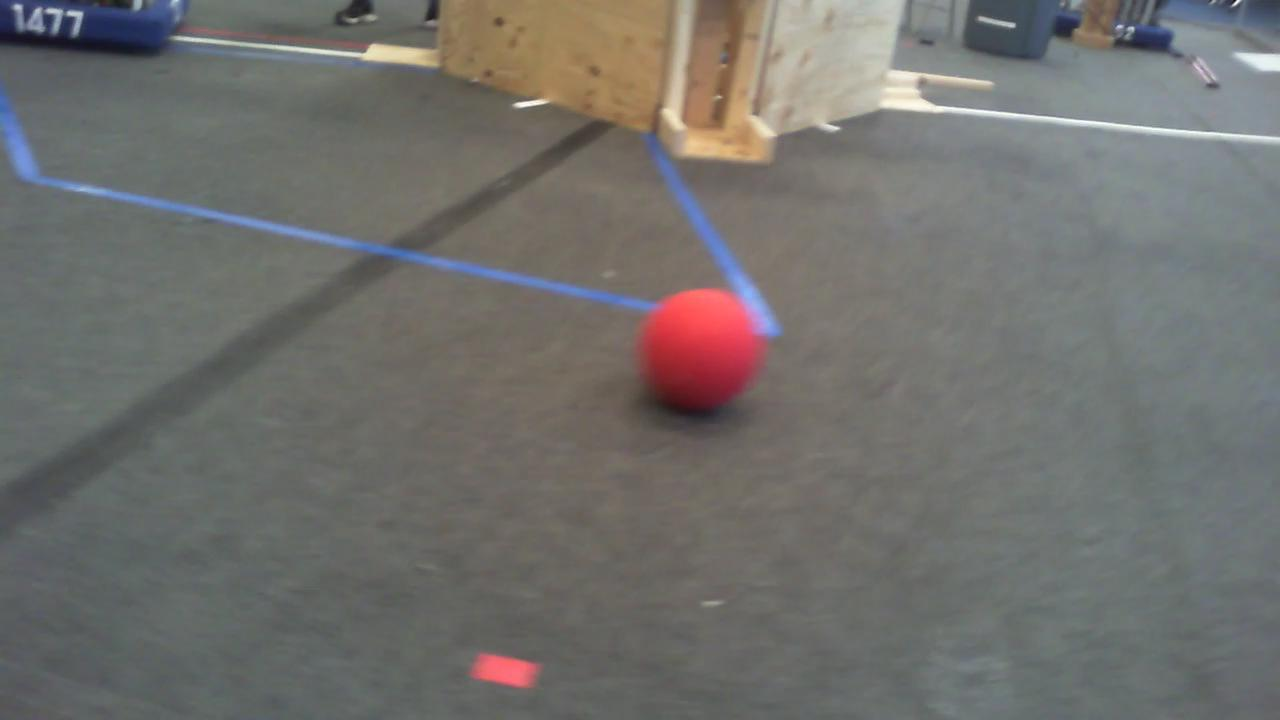robot: (0, 2, 188, 52)
